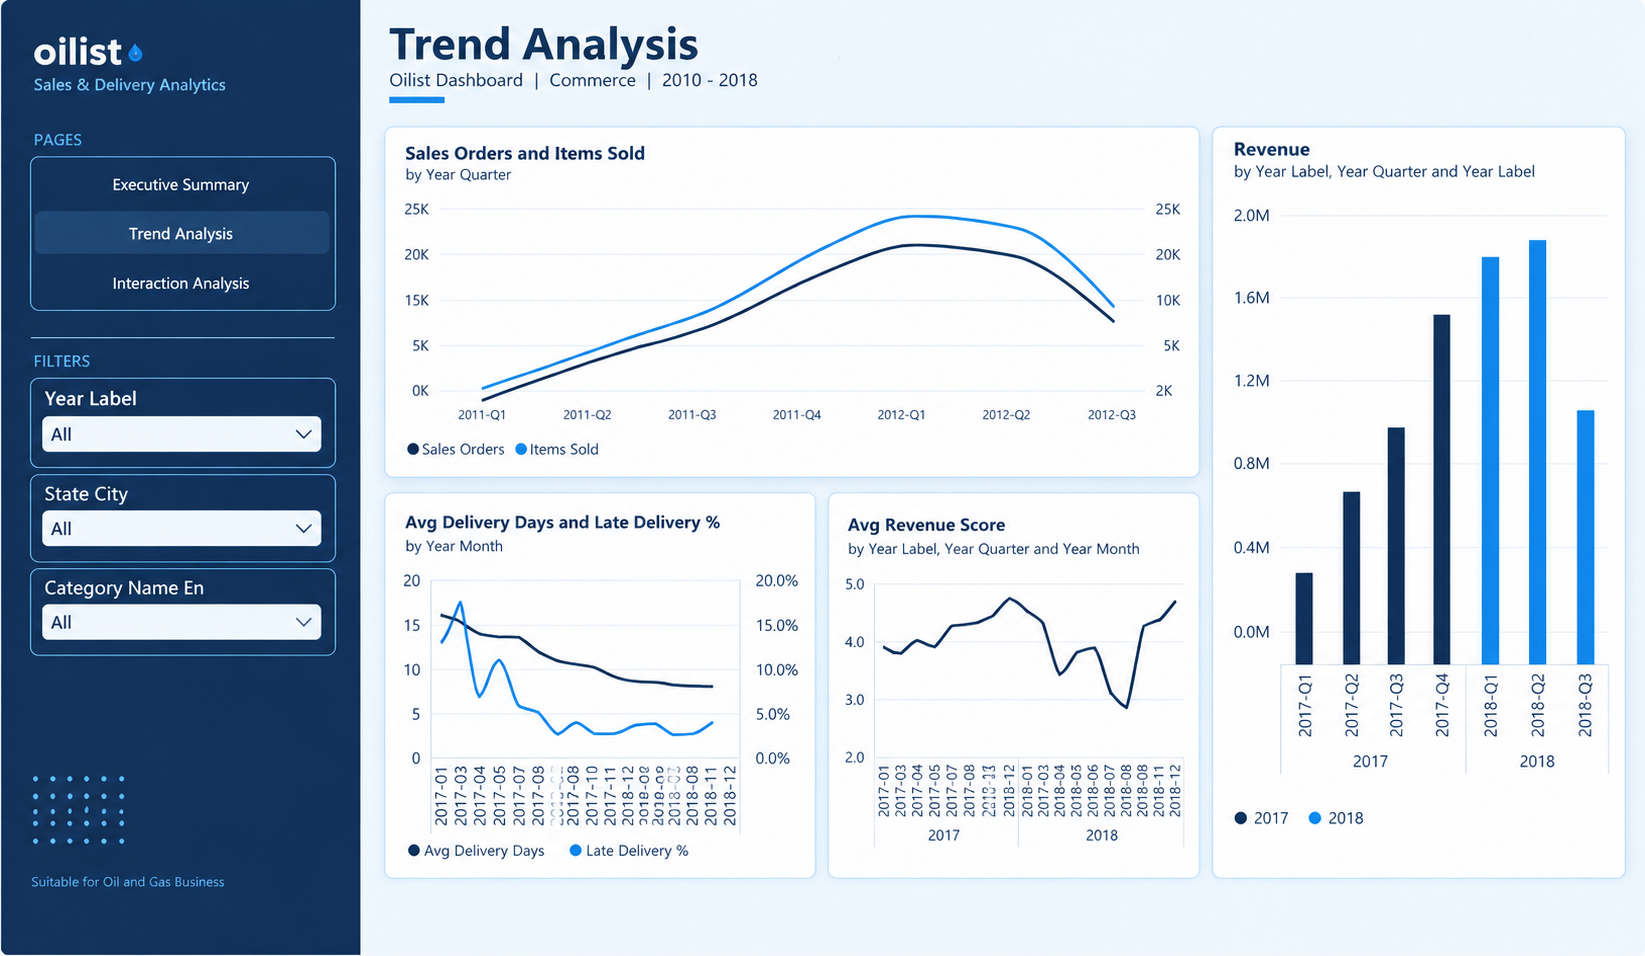

This screenshot's page, from the dashboard's own definition file:
{"tool":"powerbi","page":{"name":"Trend Analysis","canvas":[1920,1080],"ordinal":1},"visuals":[{"type":"pageNavigator","box":[35,190,370.8,158.3],"z":0},{"type":"slicer","fields":{"Values":["Customer Location.Hierarchy.State City"]},"box":[50,552,340,90],"z":1000},{"type":"slicer","fields":{"Values":["Product.Hierarchy.Category Name En"]},"box":[50,654,340,86],"z":2000},{"type":"slicer","fields":{"Values":["Date.Hierarchy.Year Label"]},"box":[50,452,340,88],"z":3000},{"type":"lineChart","fields":{"Category":["Date.Hierarchy.Year Month"],"Y":["Measures.Avg Delivery Days"],"Y2":["Fact Order Fulfilment.Late Delivery %"]},"box":[487.5,597.5,445,430],"z":4000},{"type":"lineChart","fields":{"Category":["Date.Hierarchy.Year Label","Date.Hierarchy.Year Quarter","Date.Hierarchy.Year Month"],"Y":["Fact Order Fulfilment.Sales Orders"],"Y2":["Fact Sales.Items Sold"]},"box":[487.5,172.5,925,380],"z":5000},{"type":"clusteredColumnChart","fields":{"Category":["Date.Hierarchy.Year Label","Date.Hierarchy.Year Quarter"],"Series":["Date.Hierarchy.Year Label"],"Y":["Fact Sales.Revenue"]},"box":[1450,175,422.5,852.5],"z":6000},{"type":"lineChart","fields":{"Category":["Date.Hierarchy.Year Label","Date.Hierarchy.Year Quarter","Date.Hierarchy.Year Month"],"Y":["Measures.Avg Review Score"]},"box":[960,598,454,430],"z":7000}]}

Visuals, with their boxes on the page's 1920x1080 design canvas (x1, y1, x2, y2). These are canvas units, not pixel positions in the 1645x956 screenshot, which may show the page scaled, cropped or inside an application window:
pageNavigator: pyautogui.locateOnScreen(35, 190, 406, 348)
slicer - Customer Location.Hierarchy.State City: pyautogui.locateOnScreen(50, 552, 390, 642)
slicer - Product.Hierarchy.Category Name En: pyautogui.locateOnScreen(50, 654, 390, 740)
slicer - Date.Hierarchy.Year Label: pyautogui.locateOnScreen(50, 452, 390, 540)
lineChart - Date.Hierarchy.Year Month x Measures.Avg Delivery Days: pyautogui.locateOnScreen(488, 598, 932, 1028)
lineChart - Date.Hierarchy.Year Label x Date.Hierarchy.Year Quarter: pyautogui.locateOnScreen(488, 172, 1412, 552)
clusteredColumnChart - Date.Hierarchy.Year Label x Date.Hierarchy.Year Quarter: pyautogui.locateOnScreen(1450, 175, 1872, 1028)
lineChart - Date.Hierarchy.Year Label x Date.Hierarchy.Year Quarter: pyautogui.locateOnScreen(960, 598, 1414, 1028)
